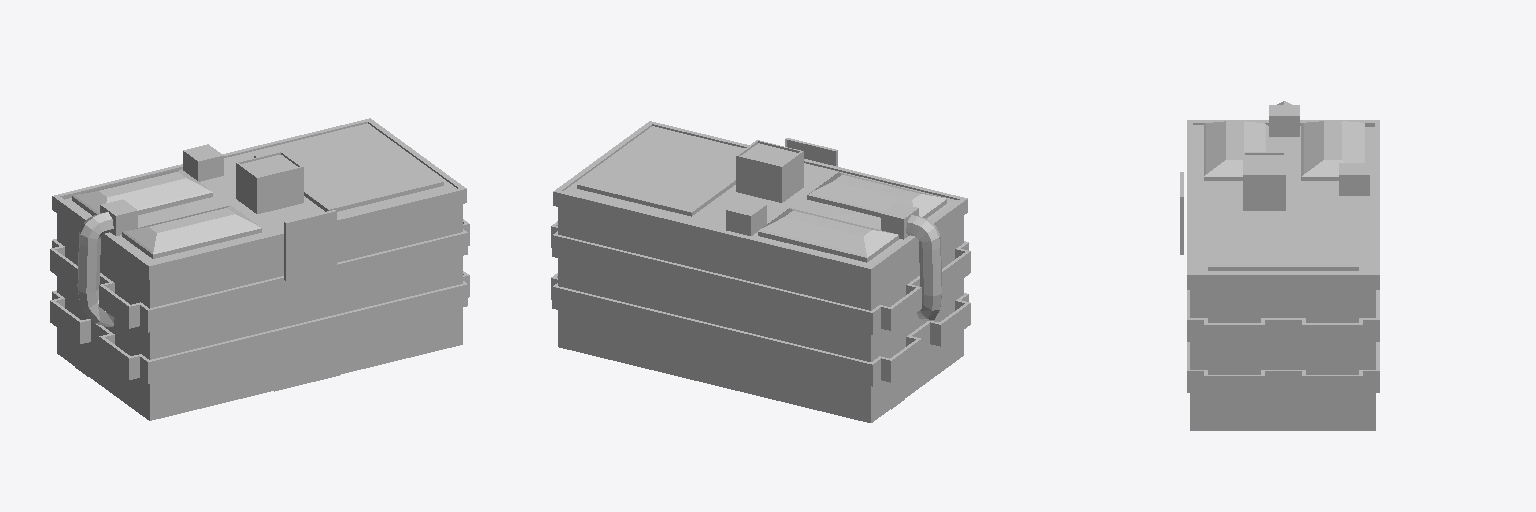
Rendered from city_hospital.obj.
3 renders of one model, left to right at view 1: azimuth 30°, elevation 25°; view 2: azimuth 150°, elevation 25°; view 3: azimuth 270°, elevation 25°, orthographic.
Parts seen in each view (by area): view 1: LM_Clinic2; view 2: LM_Clinic2; view 3: LM_Clinic2.
Boxes of the visible parts, x1=… form: LM_Clinic2: x1=50, y1=118, x2=469, y2=420; LM_Clinic2: x1=551, y1=121, x2=970, y2=422; LM_Clinic2: x1=1180, y1=101, x2=1379, y2=430.
Size of the model in its own units: 37.58 by 19.51 by 18.57.